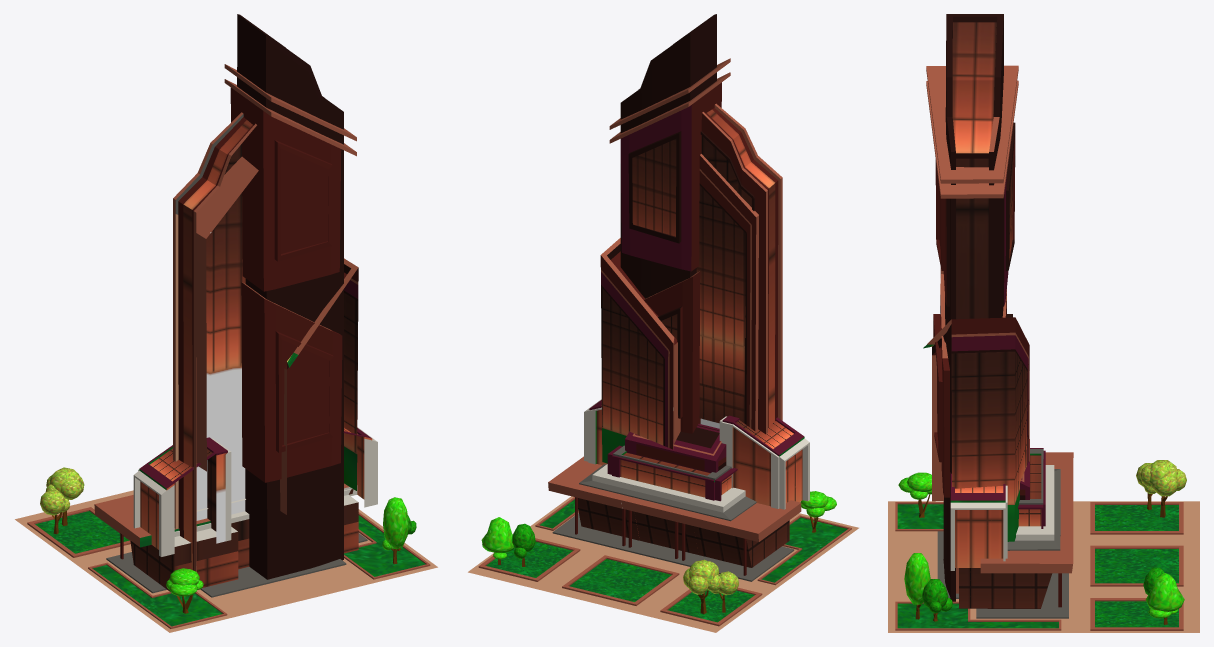
Rendered from bank_LV3.fbx.
3 views of the same model, side by side, from view 1: azimuth 30°, elevation 25°; view 2: azimuth 150°, elevation 25°; view 3: azimuth 270°, elevation 25° (orthographic). The views are drawn at different scales.
Visible parts, largest first — view 1: bank 3; view 2: bank 3; view 3: bank 3.
Part boxes in pixels (x1=…): bank 3: x1=15, y1=14, x2=437, y2=632; bank 3: x1=468, y1=14, x2=858, y2=632; bank 3: x1=888, y1=14, x2=1199, y2=632.
Bounding box in the file's own units: 101 × 196 × 100.
